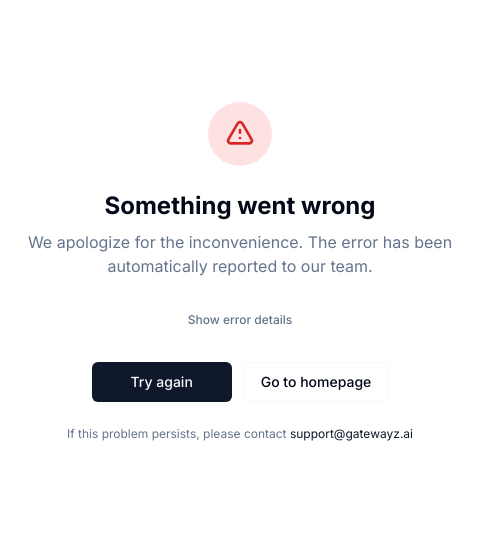
GlobalError › should display error digest when present
# Click the "Show error details" button to reveal error details
Click the button "Show error details" at x=240, y=320, box [176,302,304,338]
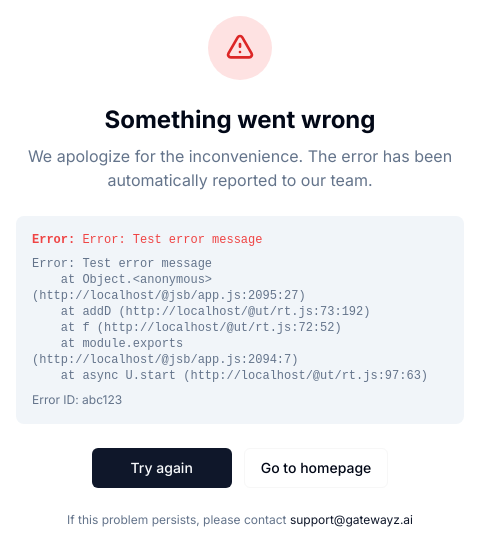
Check: the text "Error ID: abc123" is shown, box [32,392,122,407]
